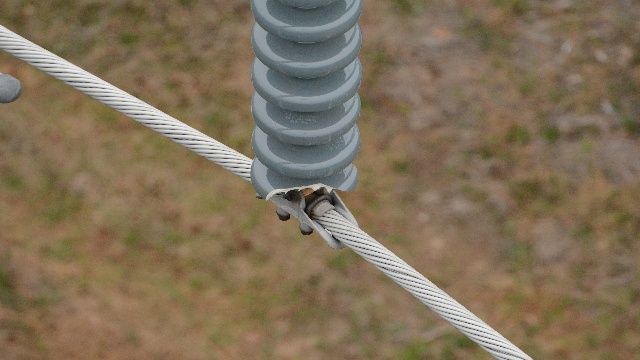broken_local: (263, 184, 354, 202)
insulator_unspecified: (249, 0, 365, 199)
